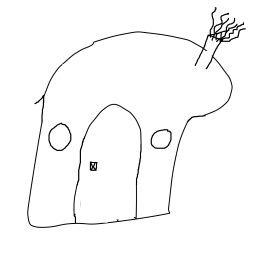door: (74, 102, 147, 227)
open_window: (43, 119, 78, 154), (146, 125, 177, 155)
single_line_roof: (26, 27, 237, 117)
smoking_chimney: (194, 3, 249, 81)
wall: (24, 102, 186, 231)
